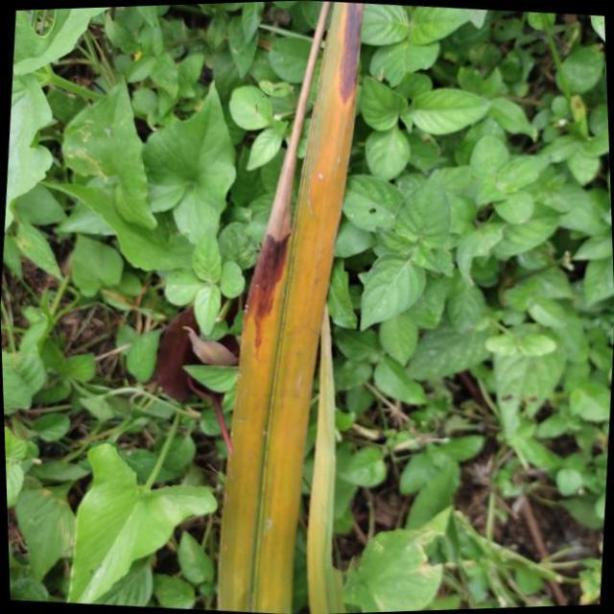Megnesium: (214, 0, 366, 614)
